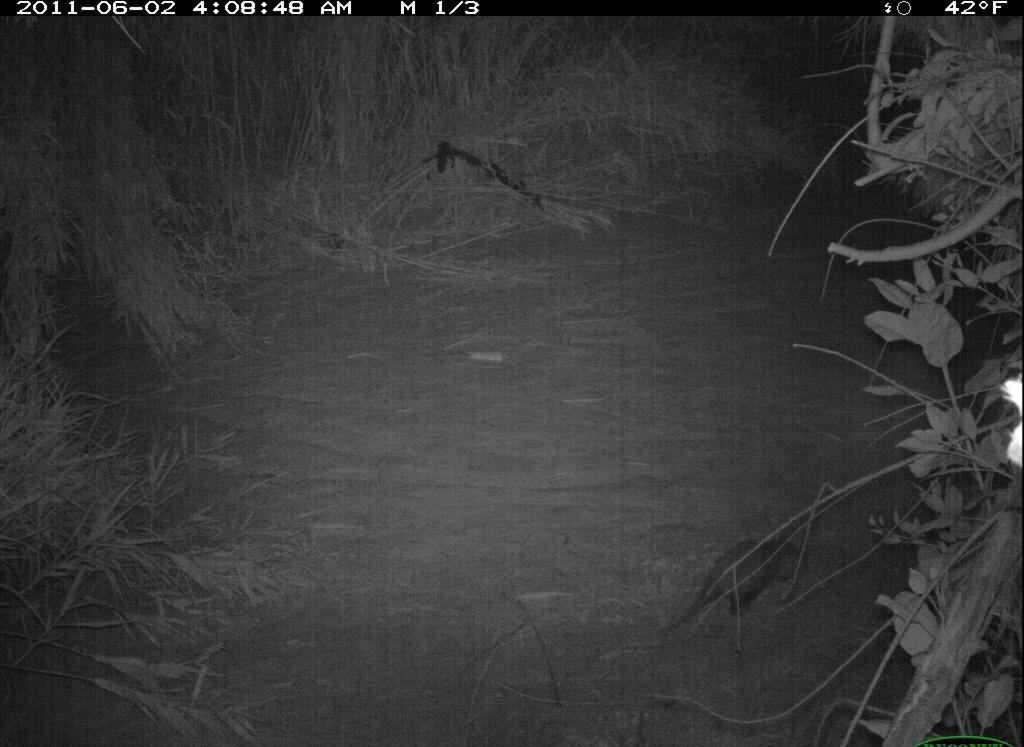opossum: (647, 530, 826, 643)
